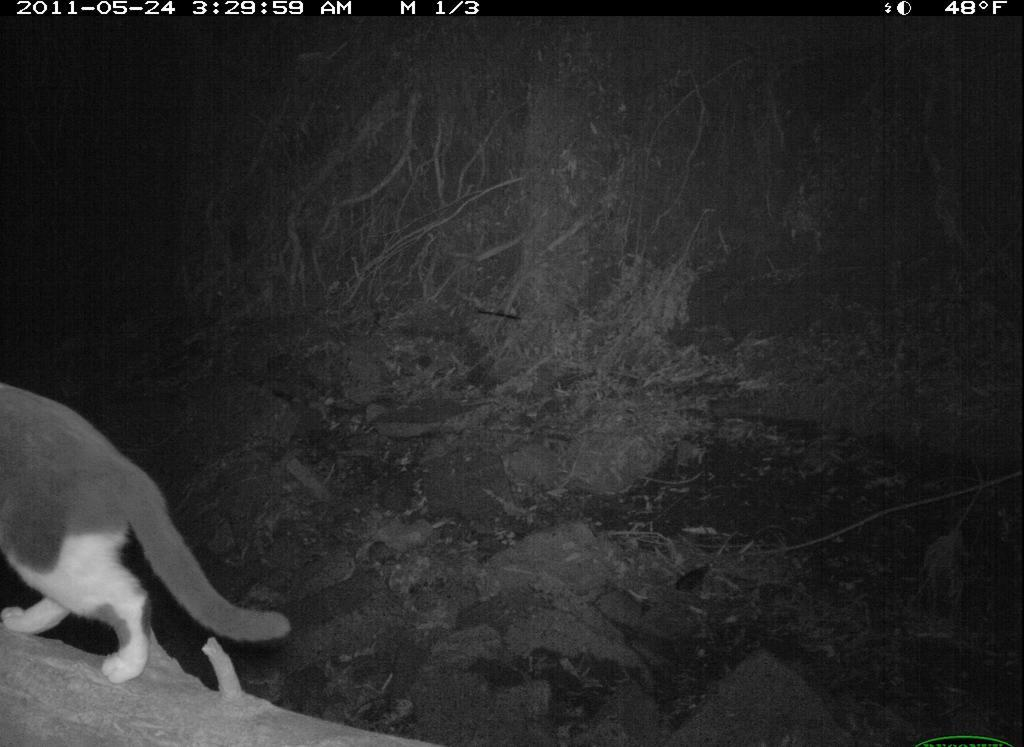cat: (3, 359, 302, 697)
